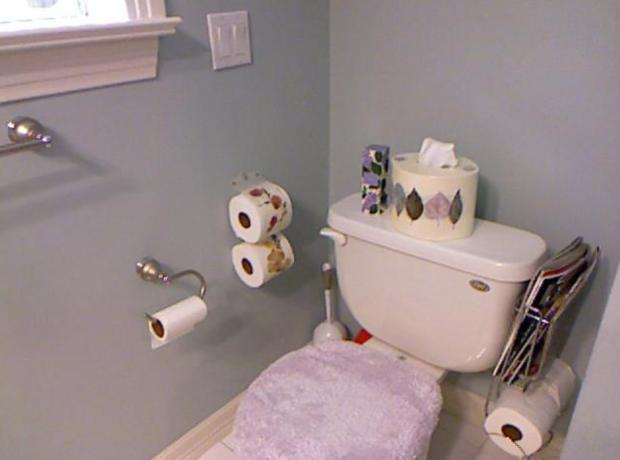Sanitario: (229, 193, 550, 456)
